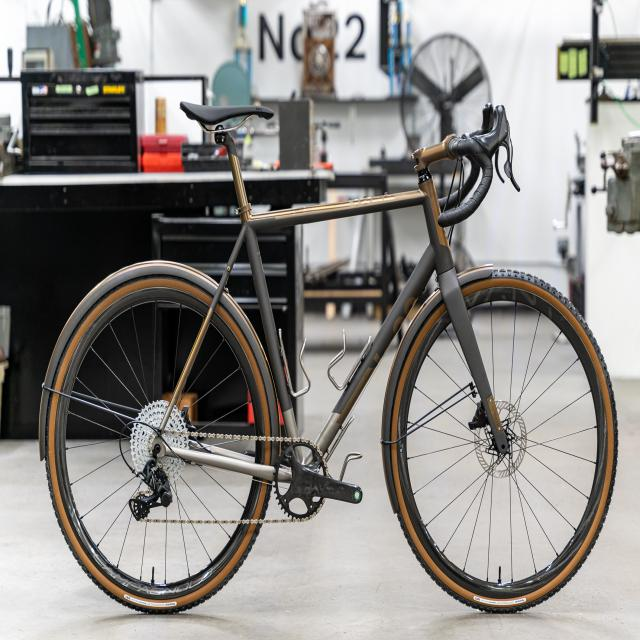bicycle: (28, 53, 618, 625)
